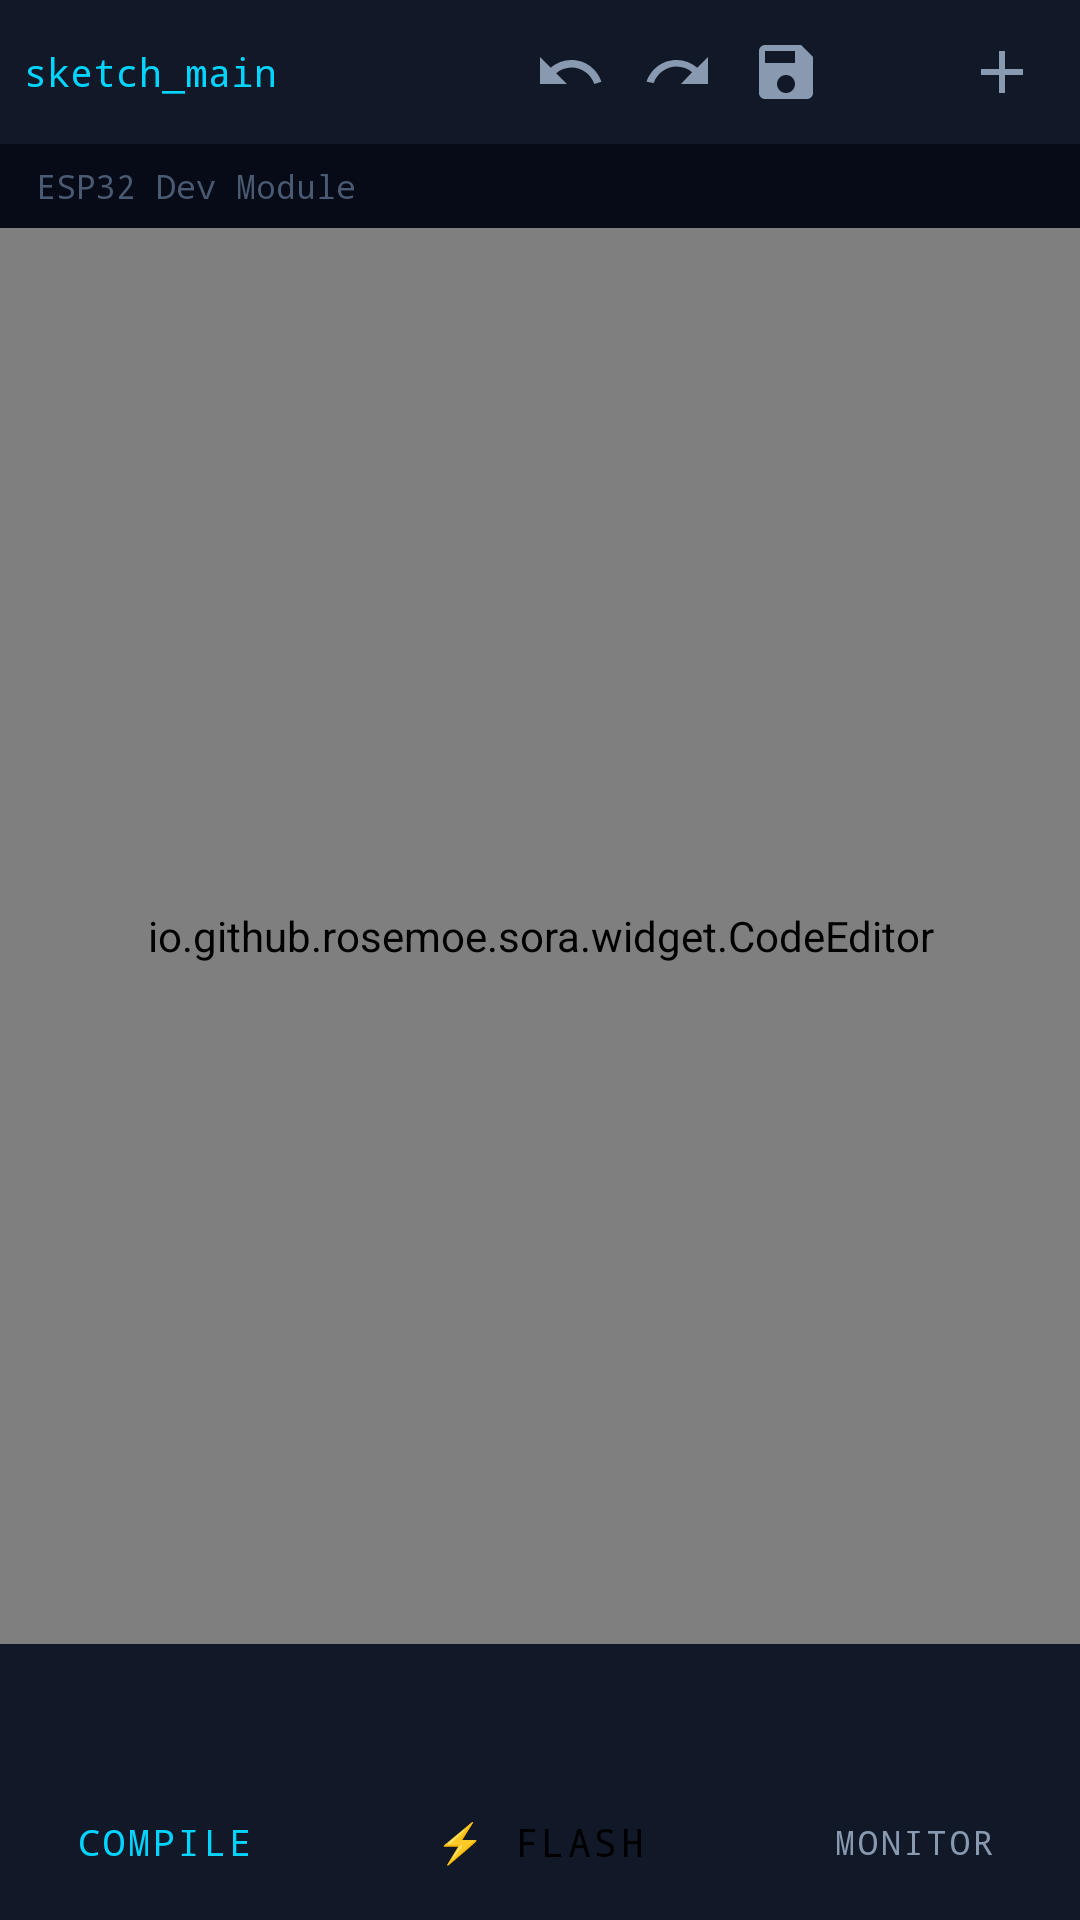

Named icons in this screenshot (1080 x 1920) and their centers, (x,y):
add: (1002,72)
redo: (677,70)
save: (786,72)
undo: (571,70)
